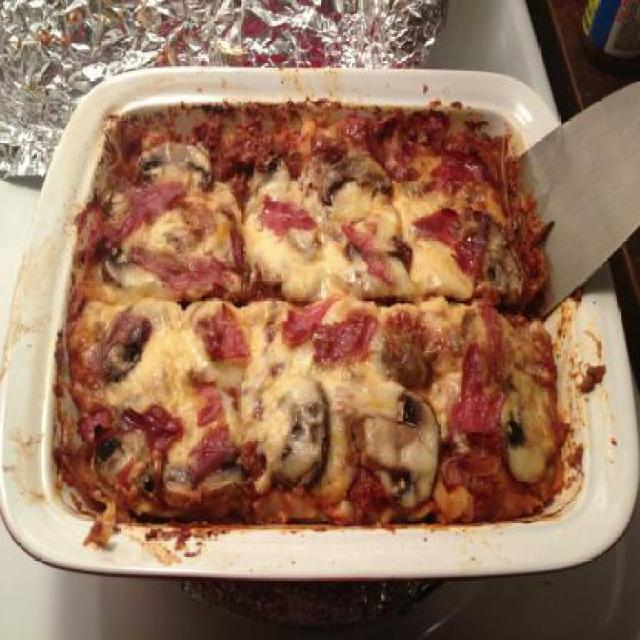Pizza: (23, 100, 586, 568)
